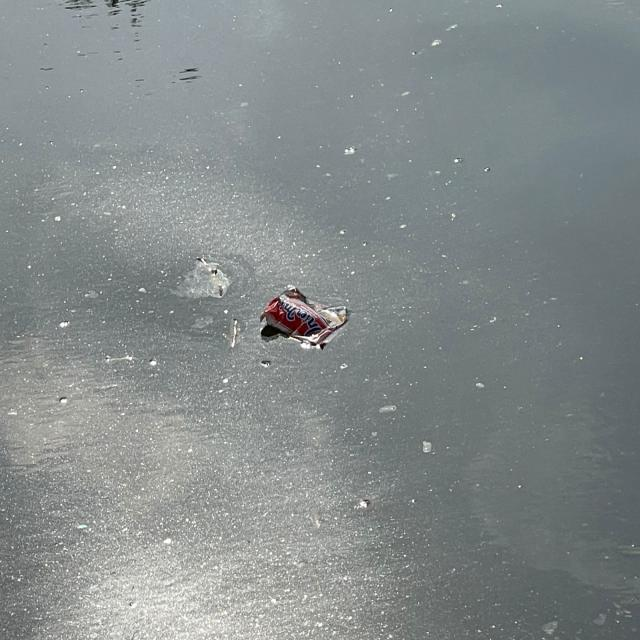Bungkus Makanan: (263, 279, 354, 365)
